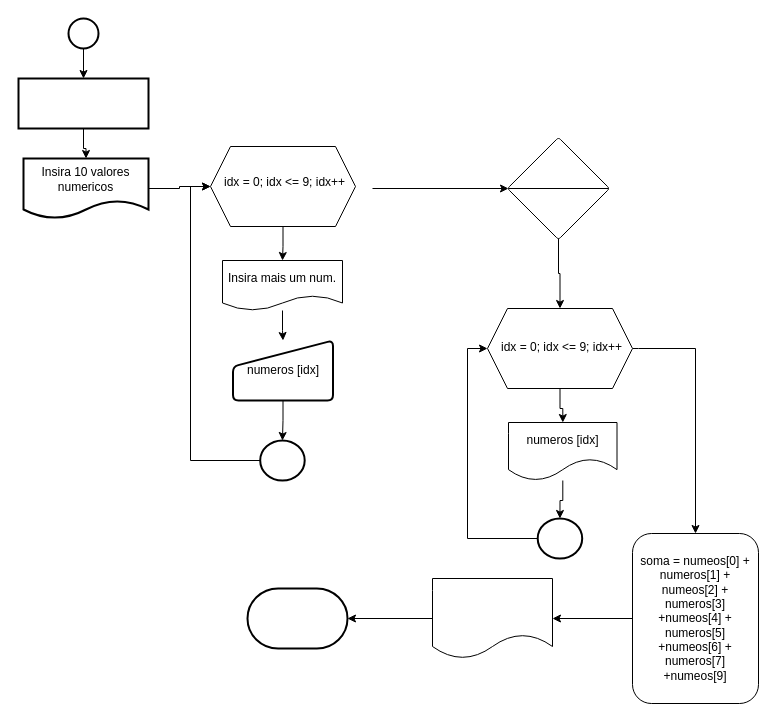
Some shapes in this 776 by 721 pixel diagram are drawn without their labels. The centre of each missing label's shape, as x and y in pixels:
Buble Sort: the point at 558,188
real numeros[10] cadeia mensagem: the point at 83,103
soma: the point at 492,618
